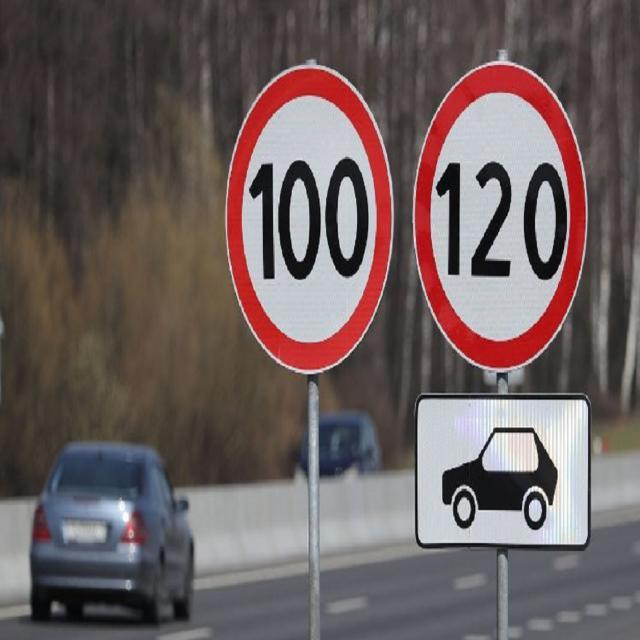speed limit 100: (223, 64, 396, 373)
speed limit 120: (413, 62, 588, 375)
